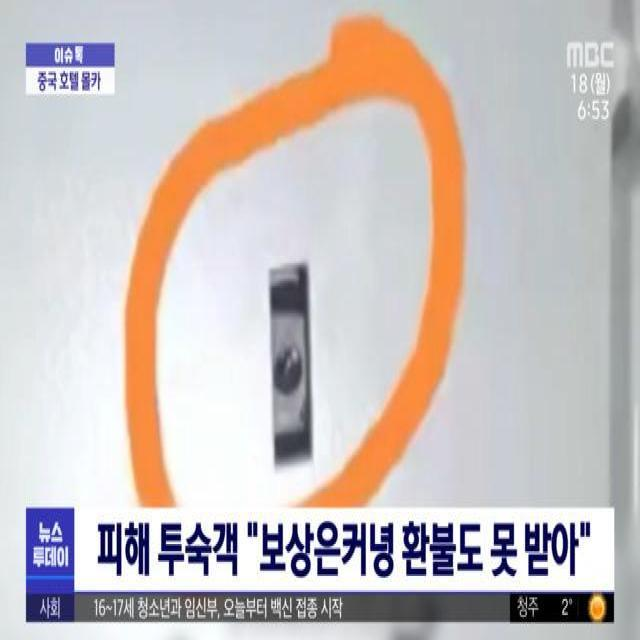hidden camera: (265, 306, 310, 443)
